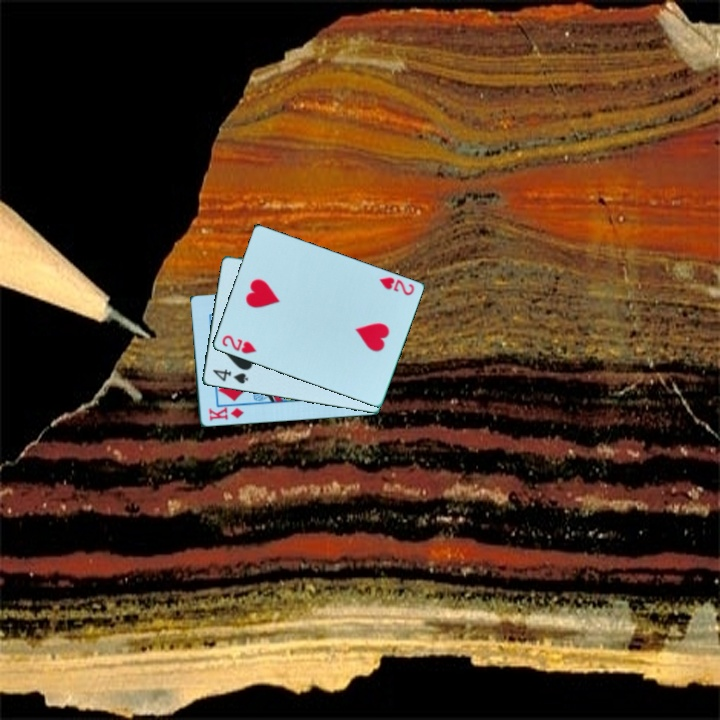2h: (375, 274, 417, 299), (218, 332, 259, 357)
4s: (209, 366, 251, 387)
Kd: (205, 404, 246, 424)
